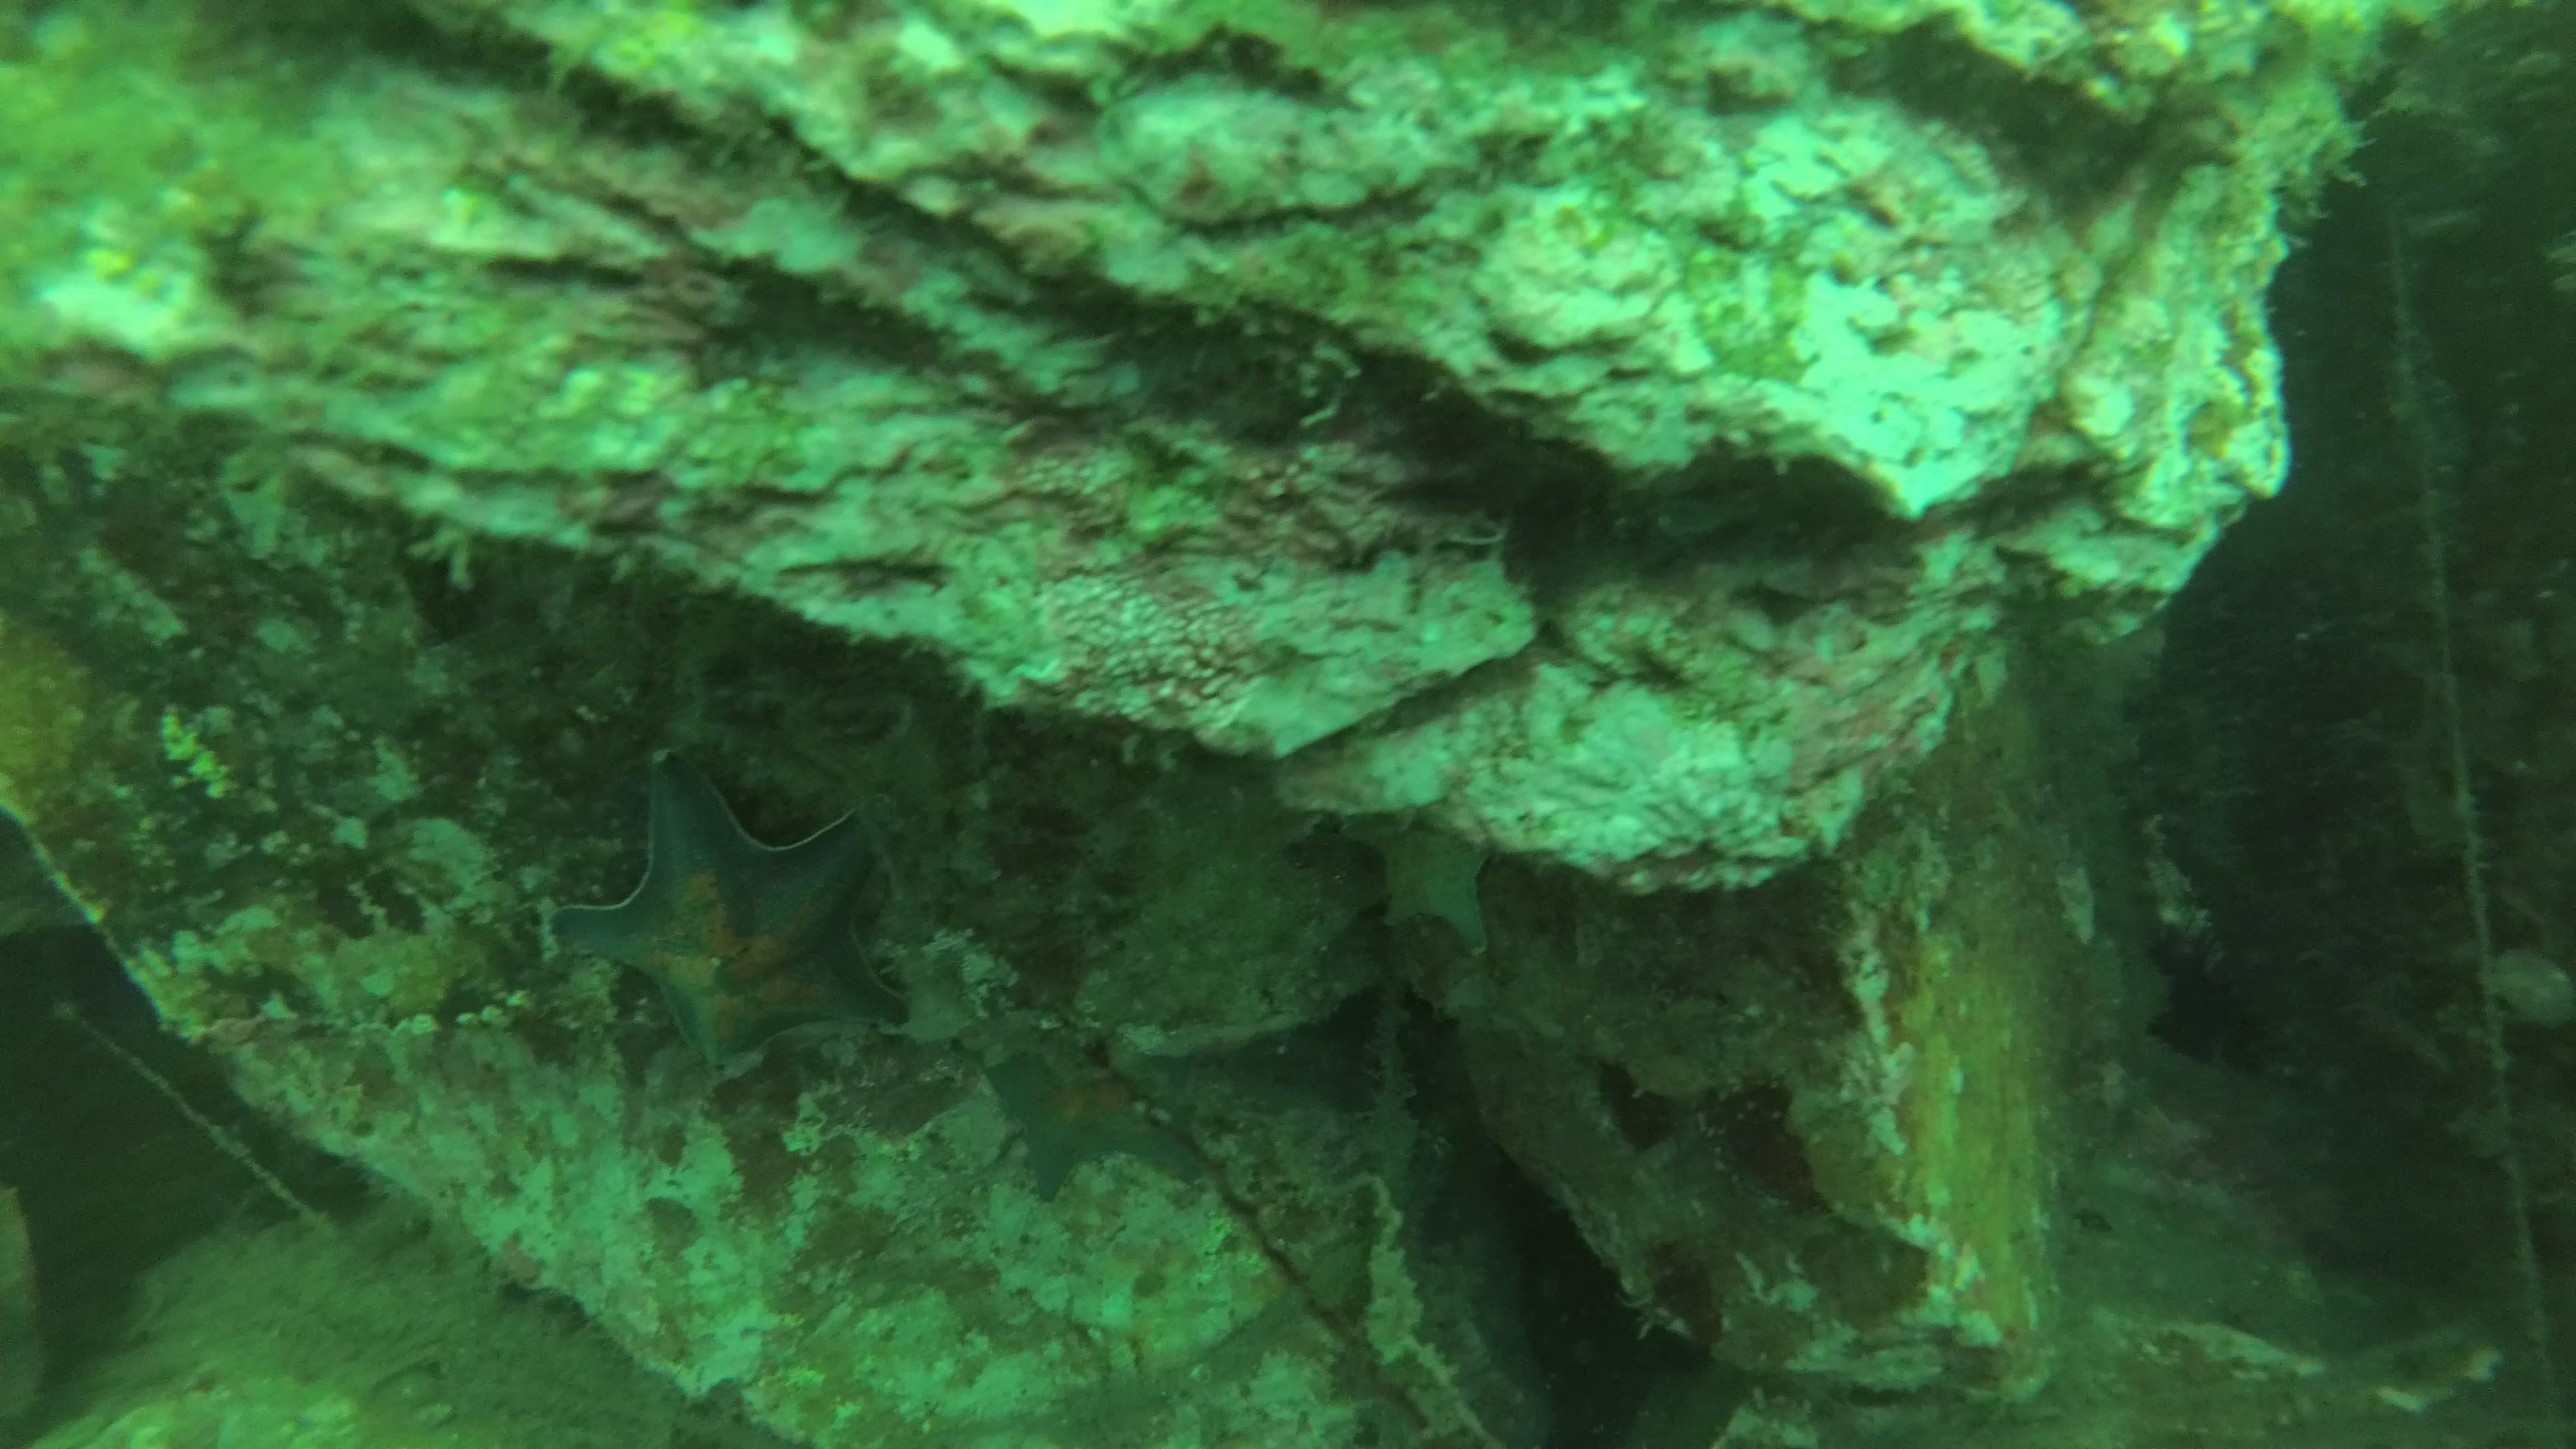starfish: (545, 747, 916, 1069), (980, 1049, 1210, 1203), (1336, 810, 1497, 959)
